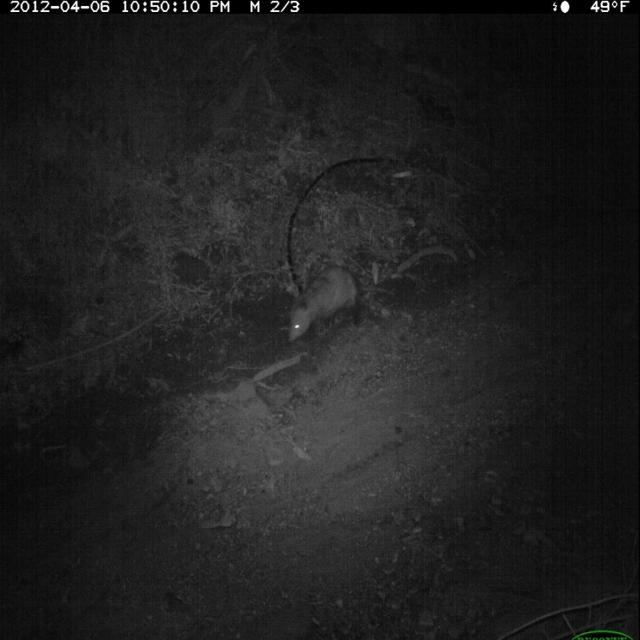opossum: (285, 260, 375, 355)
